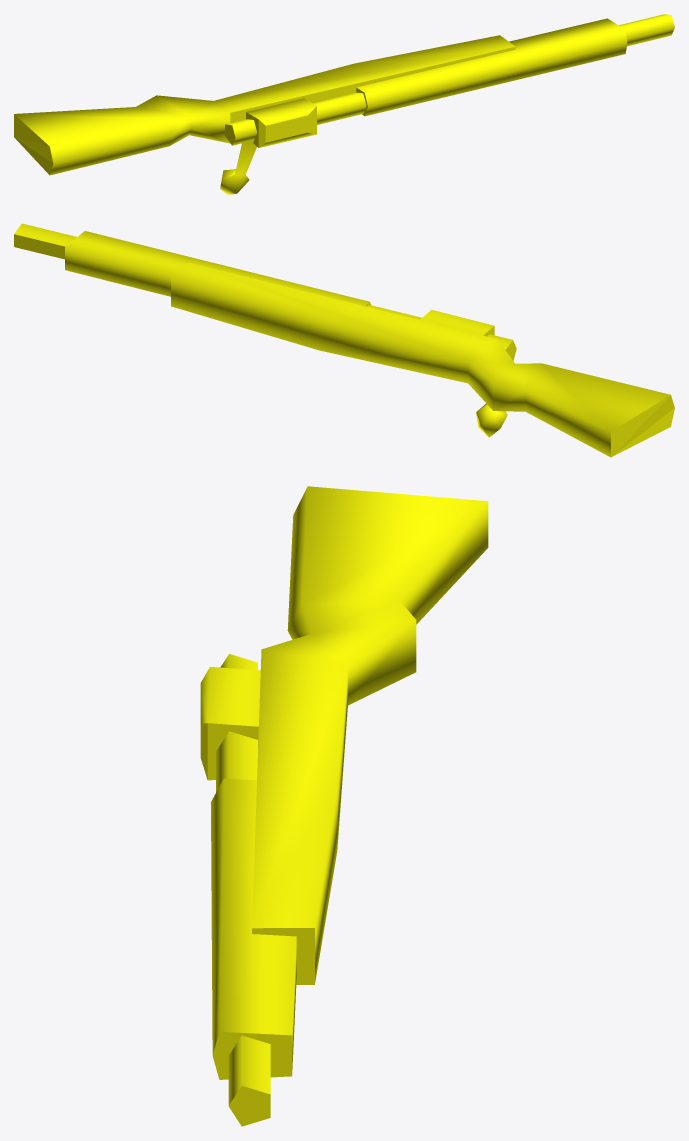
The model's file is weapon_springfield.glb.
The picture shows the model from 3 angles, top to bottom: view 1: azimuth 30°, elevation 25°; view 2: azimuth 150°, elevation 25°; view 3: azimuth 270°, elevation 25°; orthographic projection. The views are drawn at different scales.
Parts seen in each view (by area): view 1: weapon_springfield; view 2: weapon_springfield; view 3: weapon_springfield.
Boxes of the visible parts, x1=… form: weapon_springfield: x1=14, y1=14, x2=674, y2=194; weapon_springfield: x1=14, y1=223, x2=674, y2=457; weapon_springfield: x1=200, y1=486, x2=488, y2=1126.
Bounding box in the file's own units: 1.93 × 0.2642 × 0.3967.
1 material, 1 textured.
